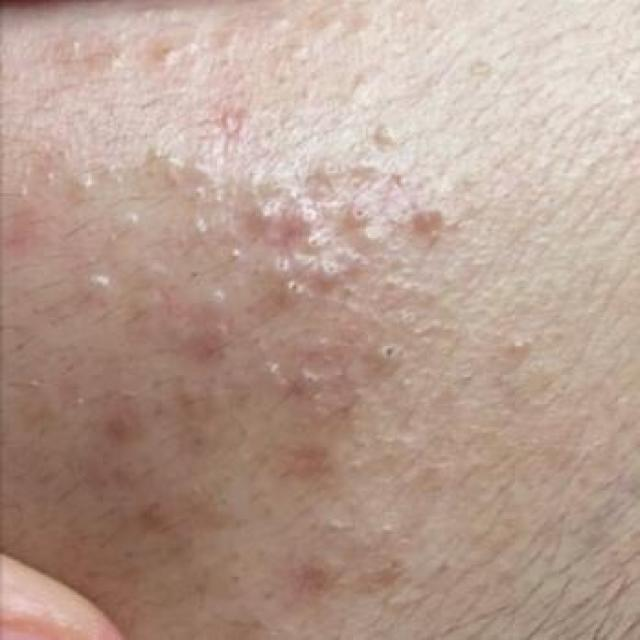acne_scars: (276, 434, 344, 480)
comedone: (265, 252, 368, 314), (368, 325, 432, 382), (204, 280, 241, 352), (290, 198, 334, 254), (160, 153, 237, 184), (81, 261, 129, 310), (296, 364, 337, 408), (217, 234, 259, 276), (370, 114, 412, 155), (145, 41, 186, 76), (142, 250, 176, 285), (74, 166, 98, 200), (346, 198, 370, 231)
papule: (136, 478, 188, 546), (401, 196, 452, 247), (83, 404, 145, 440), (300, 554, 336, 600)
